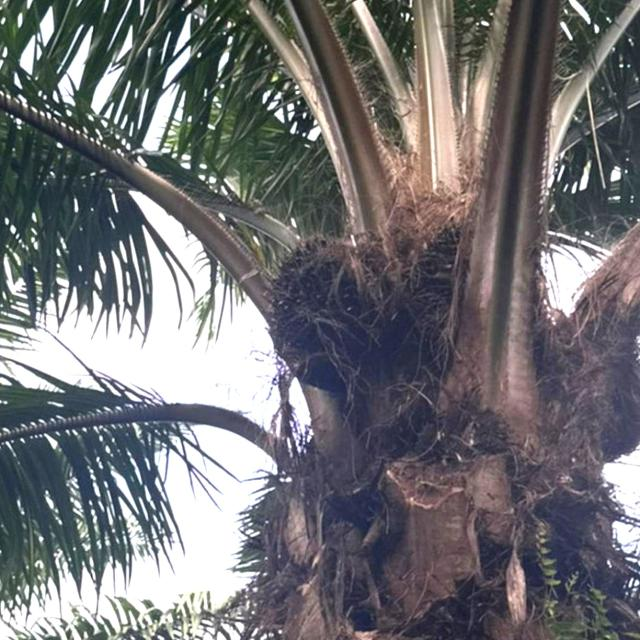unripe: (263, 231, 395, 385)
